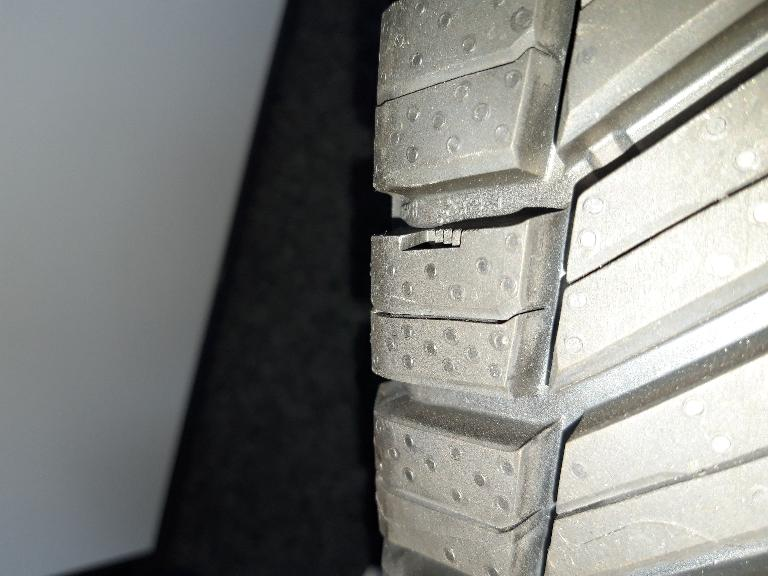temoin:100: (398, 226, 480, 253)
